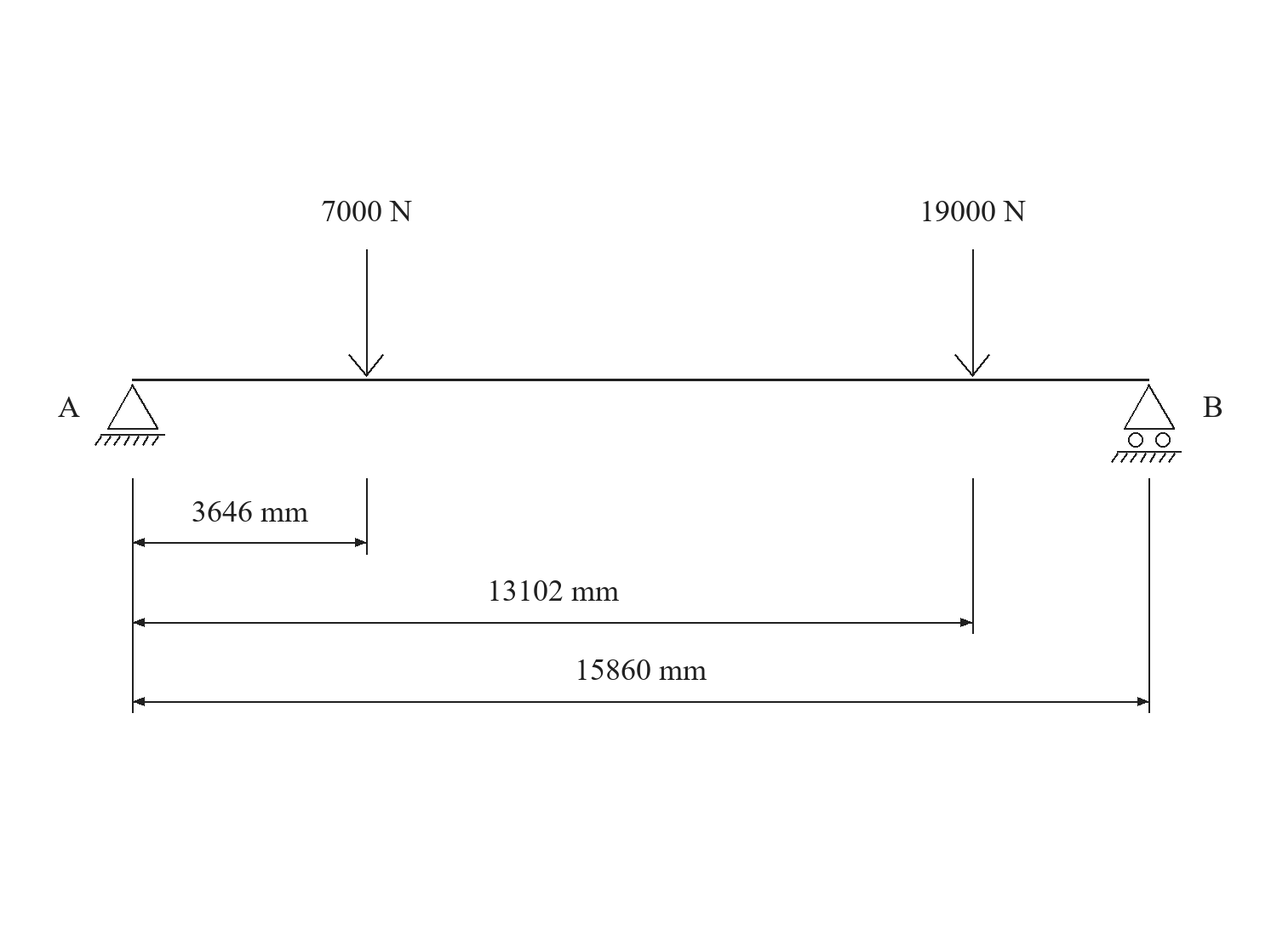pin_support: (94, 384, 165, 446)
point_load: (348, 249, 384, 377), (954, 249, 990, 377)
roller_support: (1111, 384, 1182, 463)
